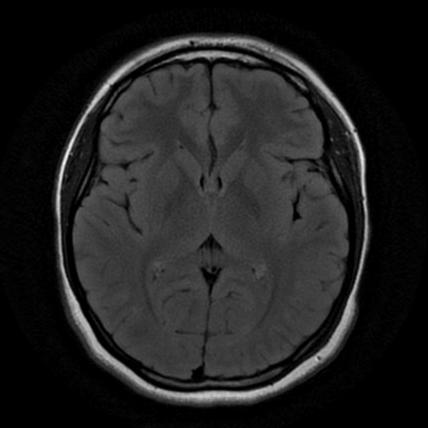Normal_Brain: (1, 3, 428, 428)
